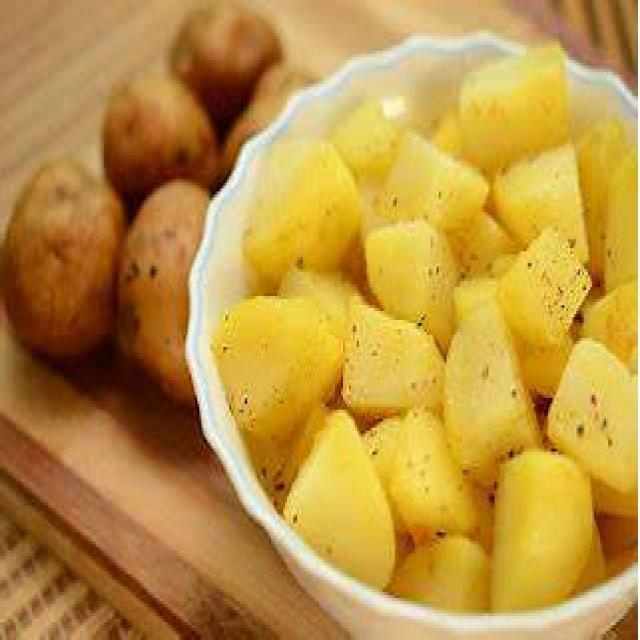Kentang Rebus: (264, 92, 636, 600)
